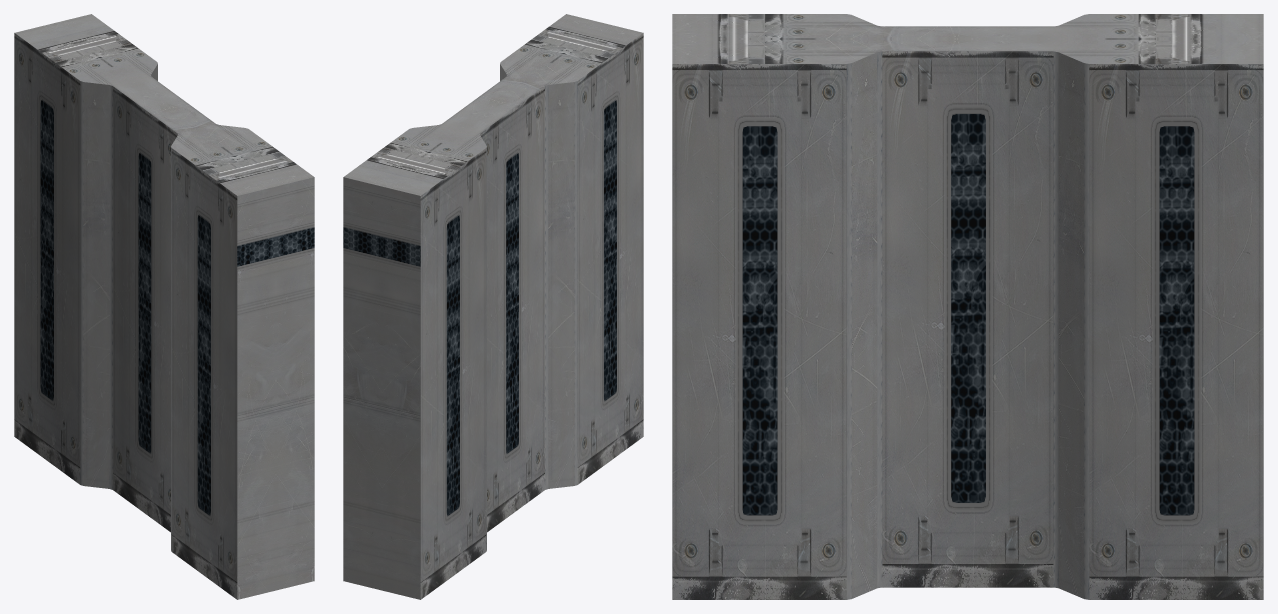
Rendered from SM_WallS013b.fbx.
3 renders of one model, left to right at view 1: azimuth 30°, elevation 25°; view 2: azimuth 150°, elevation 25°; view 3: azimuth 270°, elevation 25°, orthographic. The views are drawn at different scales.
Visible parts, largest first — view 1: SM_WallS013b_LOD0; view 2: SM_WallS013b_LOD0; view 3: SM_WallS013b_LOD0.
Boxes of the visible parts, box(x1,y1,x2,y2) form: SM_WallS013b_LOD0: box(14, 14, 314, 599); SM_WallS013b_LOD0: box(343, 14, 643, 599); SM_WallS013b_LOD0: box(672, 14, 1263, 599).
Bounding box in the file's own units: 80 × 400 × 400.
2 materials, 2 textured.
